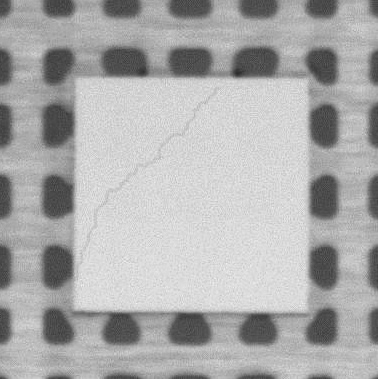DIE_CRACK: (79, 84, 221, 261)
